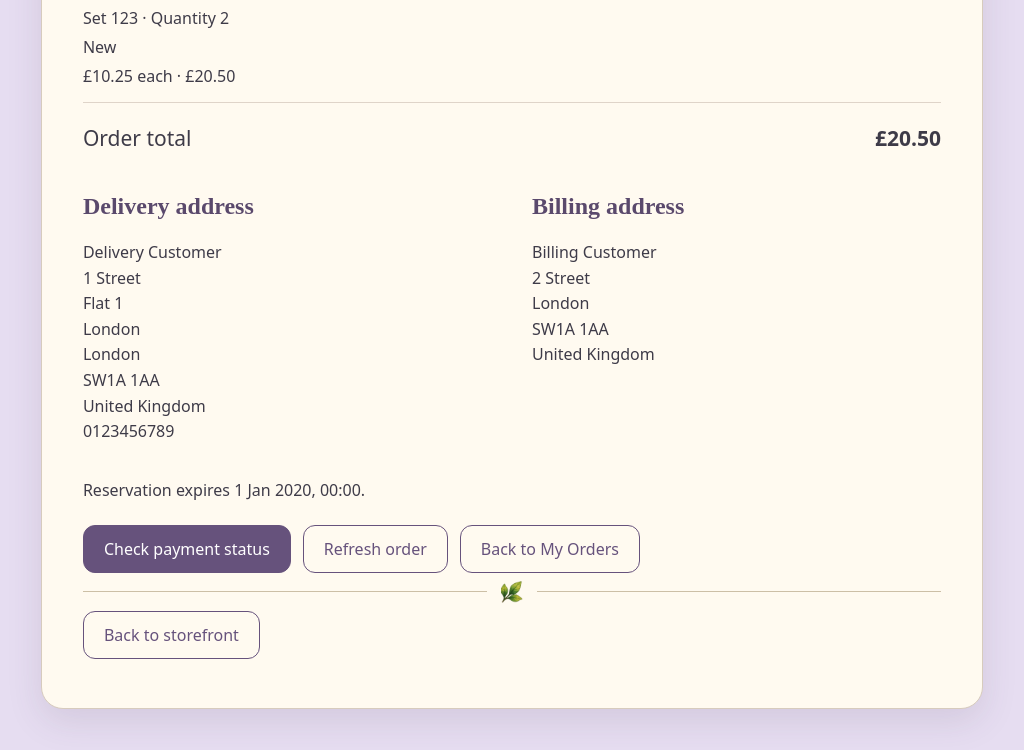
Test: explicit Order Detail payment recovery › preserves authentication and owner-safe handling for recovery HTTP 401
(page scrolled)
Step 1. Click the button "Check payment status" → (187, 549), box 83,525 -> 291,573
(page scrolled)
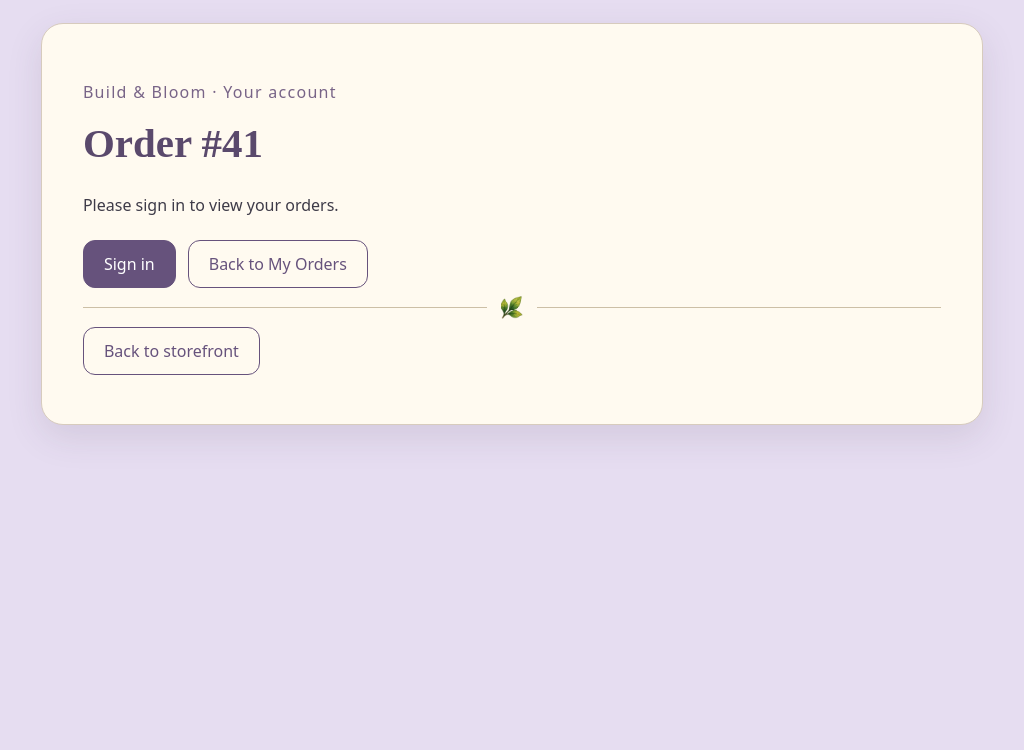
Now the text "Delivery Customer" is gone
Now the text "Please sign in" is shown, box 83,194 -> 339,216
